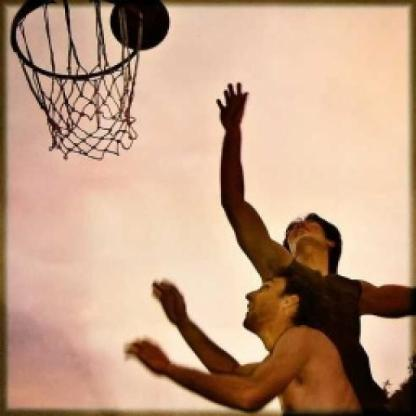basketball: (106, 0, 175, 54)
